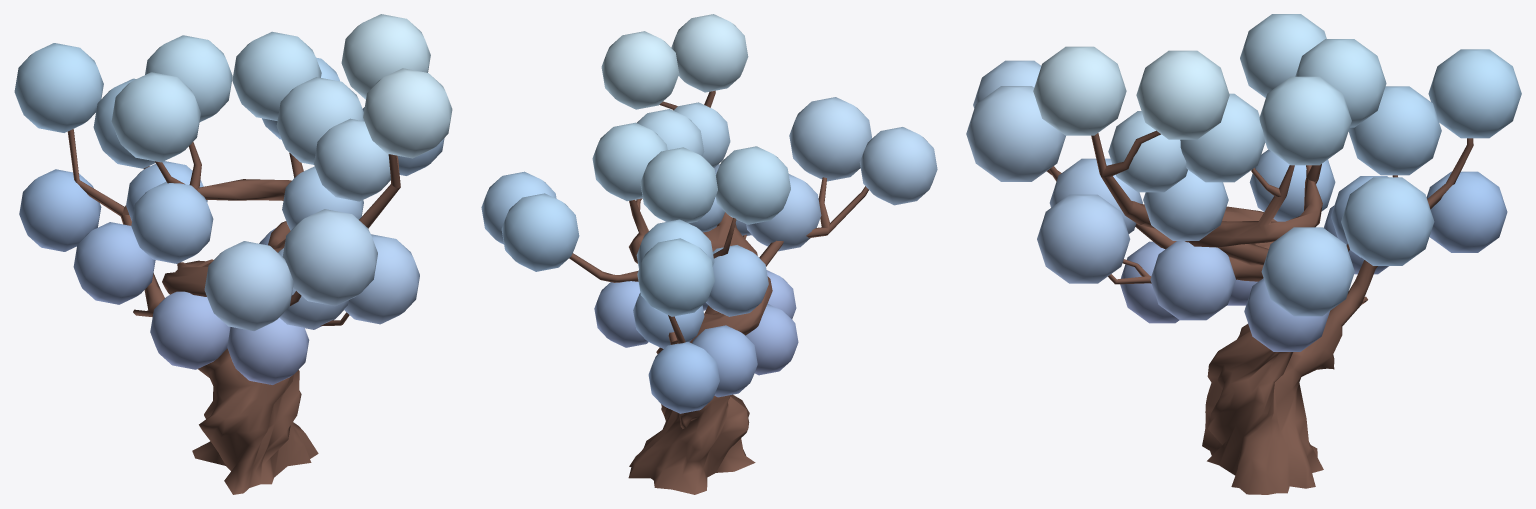
The model's file is big_fabulous_tree_001.glb.
The picture shows the model from 3 angles, left to right: view 1: azimuth 30°, elevation 25°; view 2: azimuth 150°, elevation 25°; view 3: azimuth 270°, elevation 25°; orthographic projection. The views are drawn at different scales.
Parts seen in each view (by area): view 1: big_fabulous_tree_001; view 2: big_fabulous_tree_001; view 3: big_fabulous_tree_001.
Boxes of the visible parts, box(x1,y1,x2,y2) form: big_fabulous_tree_001: box(14, 14, 452, 494); big_fabulous_tree_001: box(481, 14, 937, 494); big_fabulous_tree_001: box(966, 14, 1521, 494).
Bounding box in the file's own units: 8.65 × 10.08 × 11.04.
Materials: 1 (1 with a texture image).
